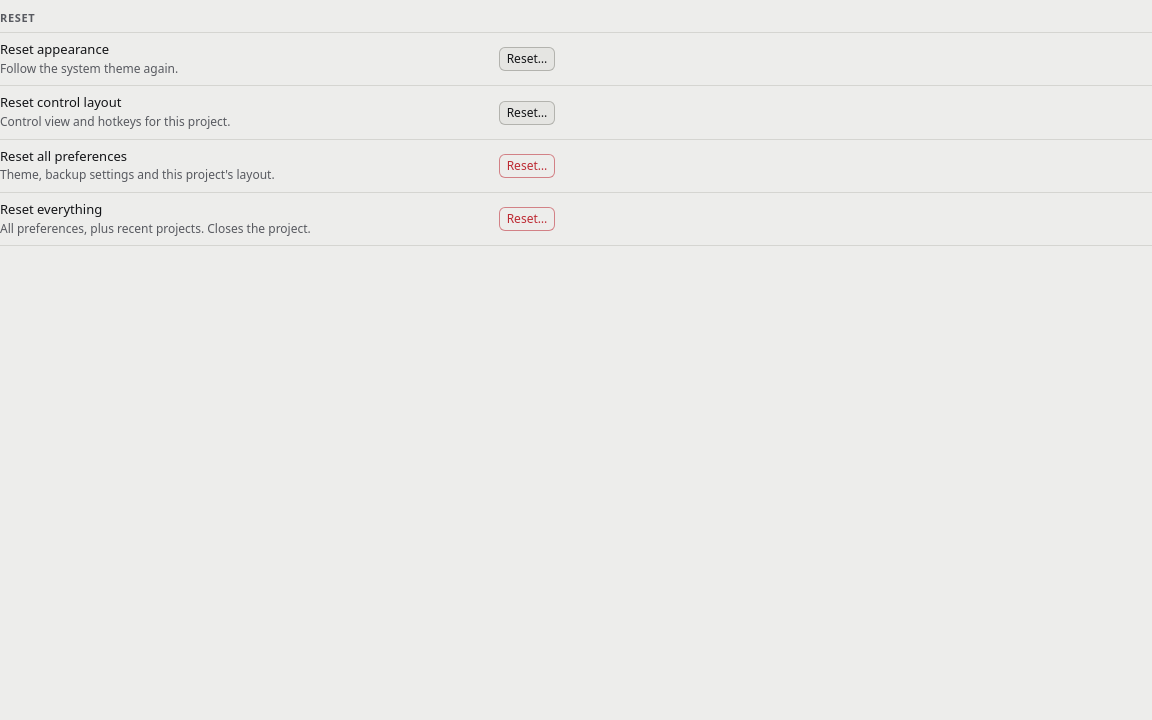
it: ResetSection › does nothing when the confirmation is cancelled
Click the button with aria-label "Reset appearance": (527, 59) [499,47,555,71]
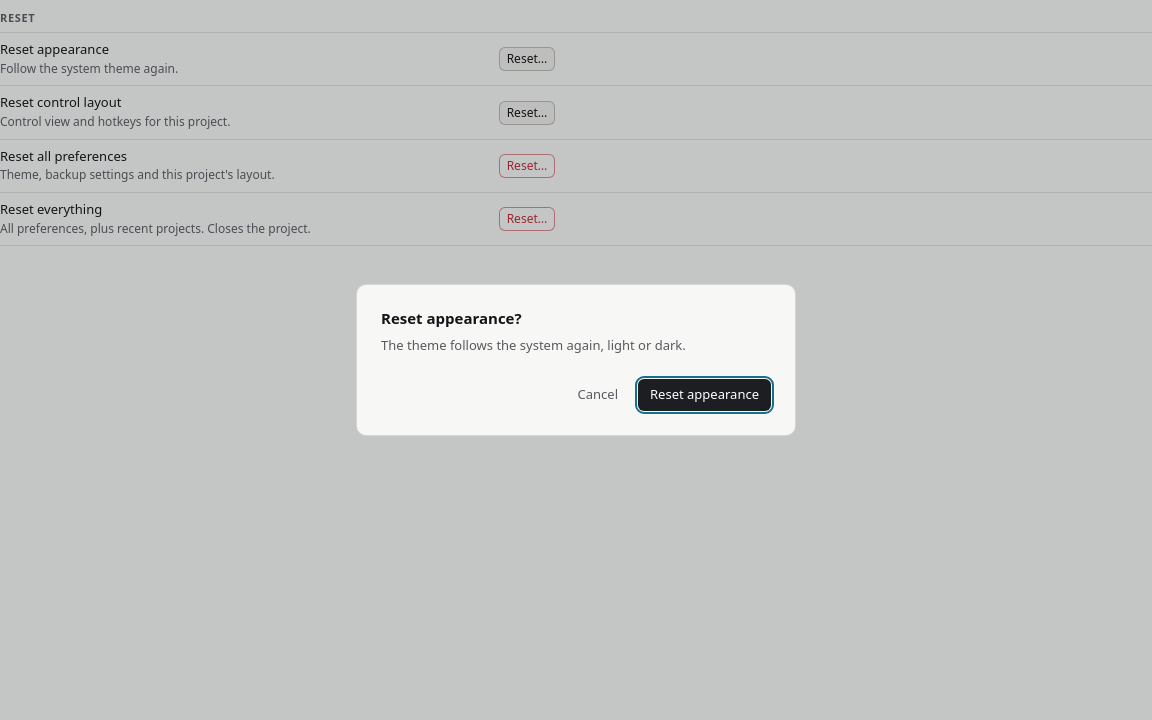
Click the button "Cancel": (598, 395) [566,379,630,411]
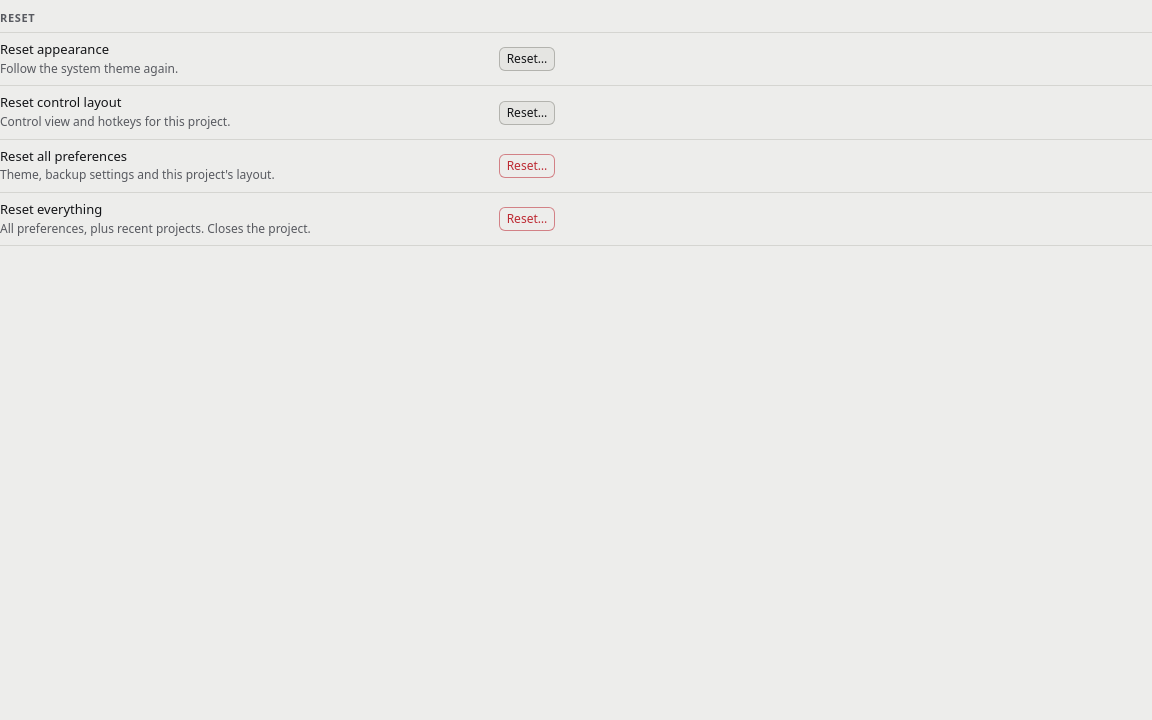
Check: the dialog is gone
